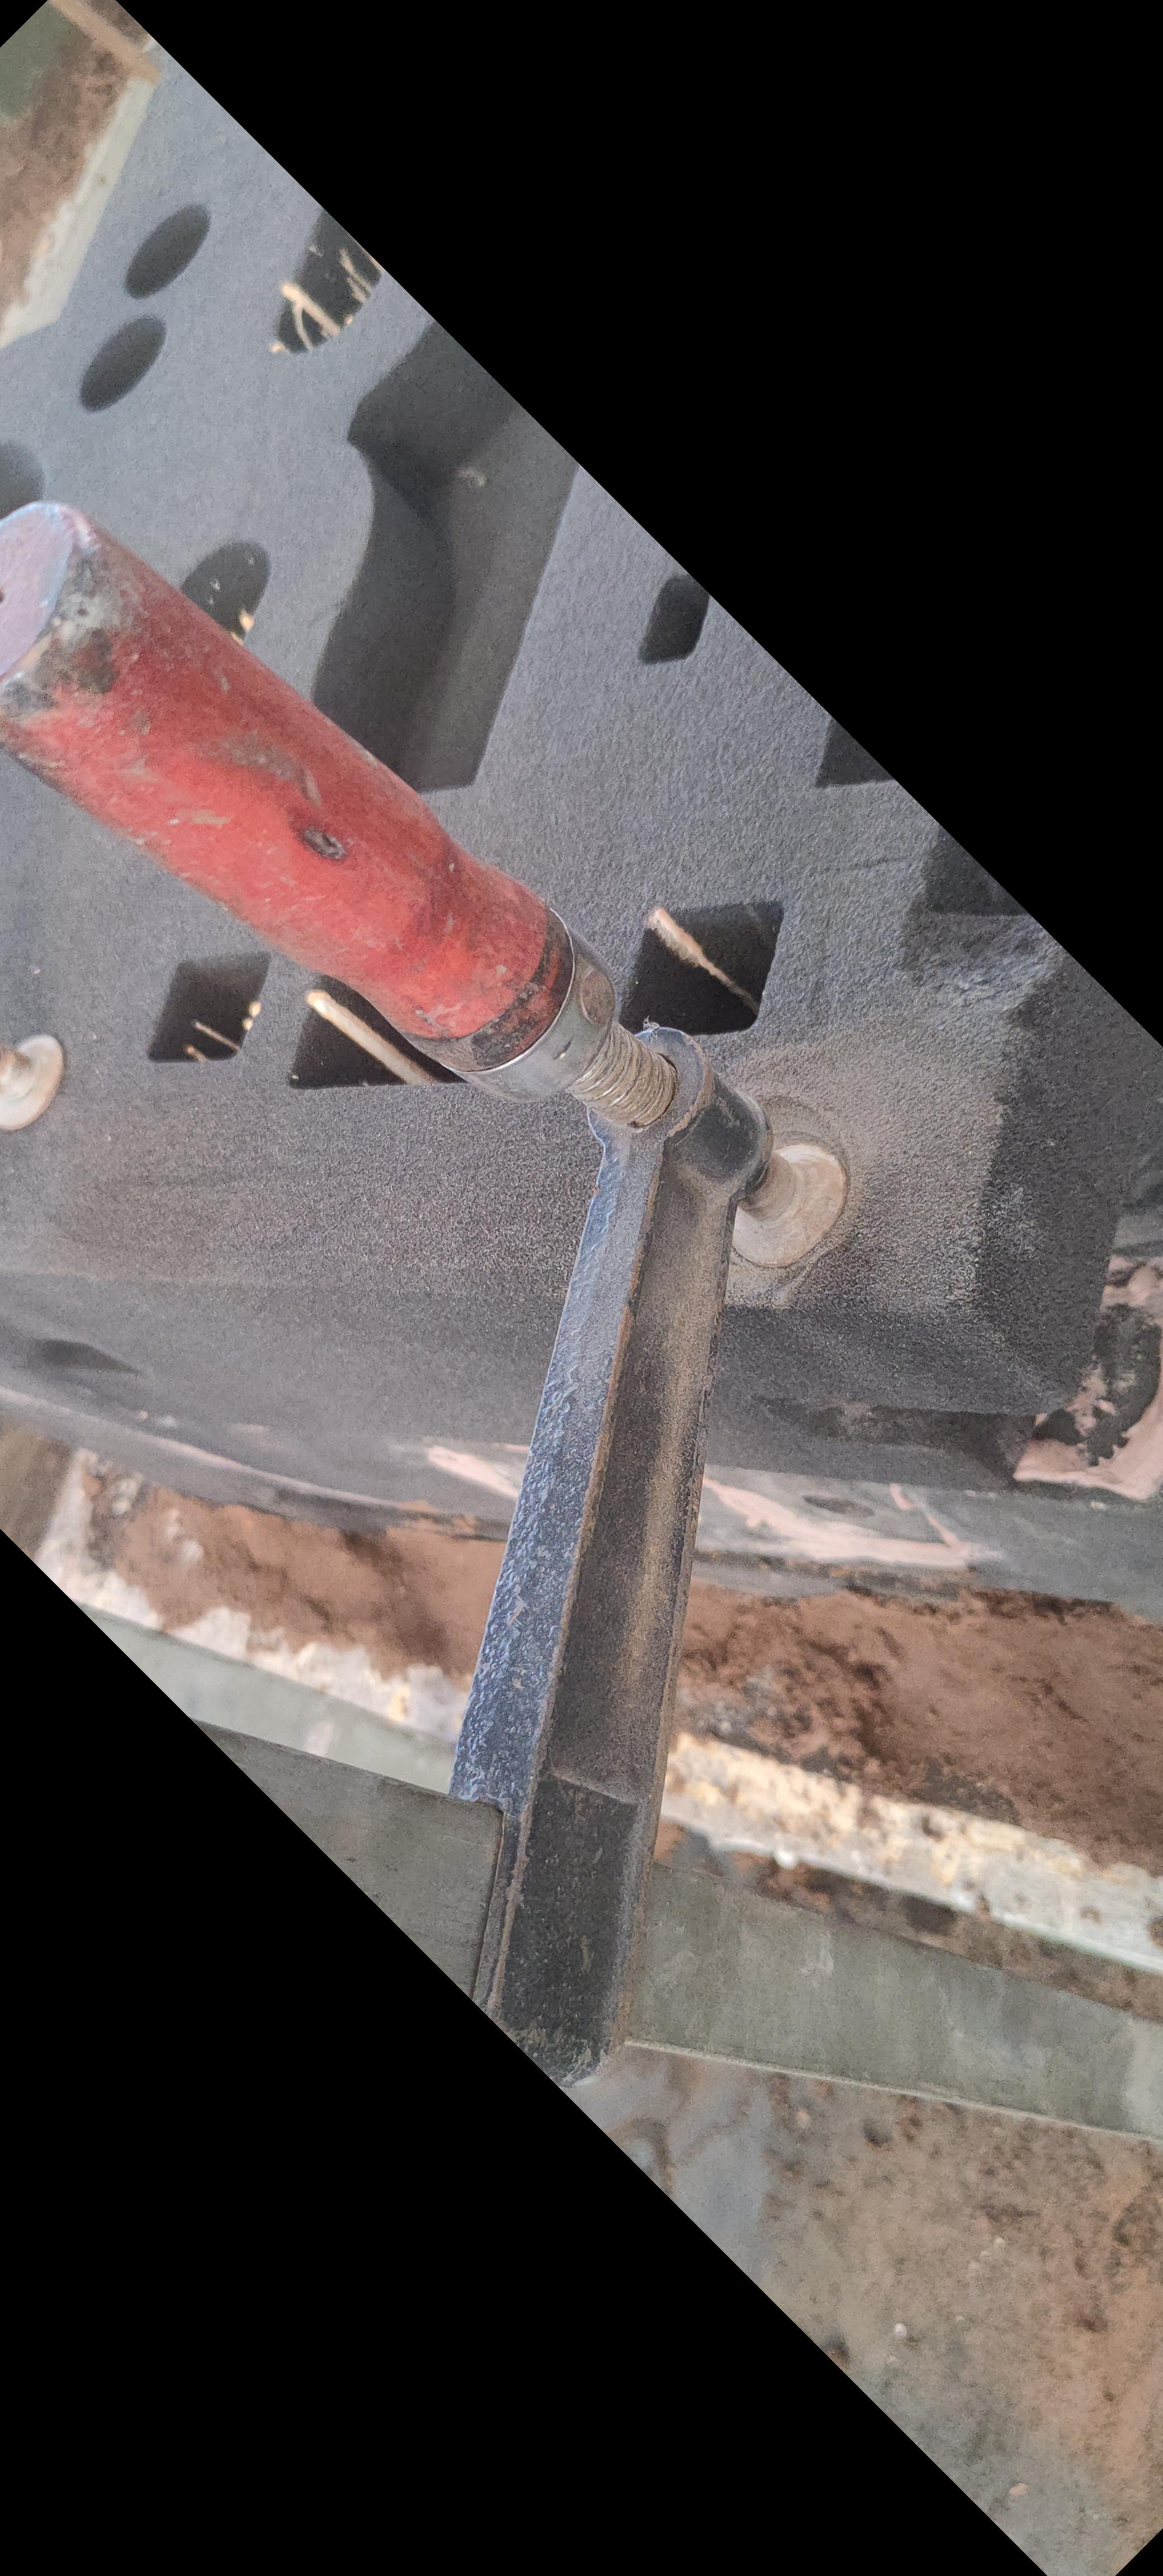pouring hole: (0, 440, 46, 555)
